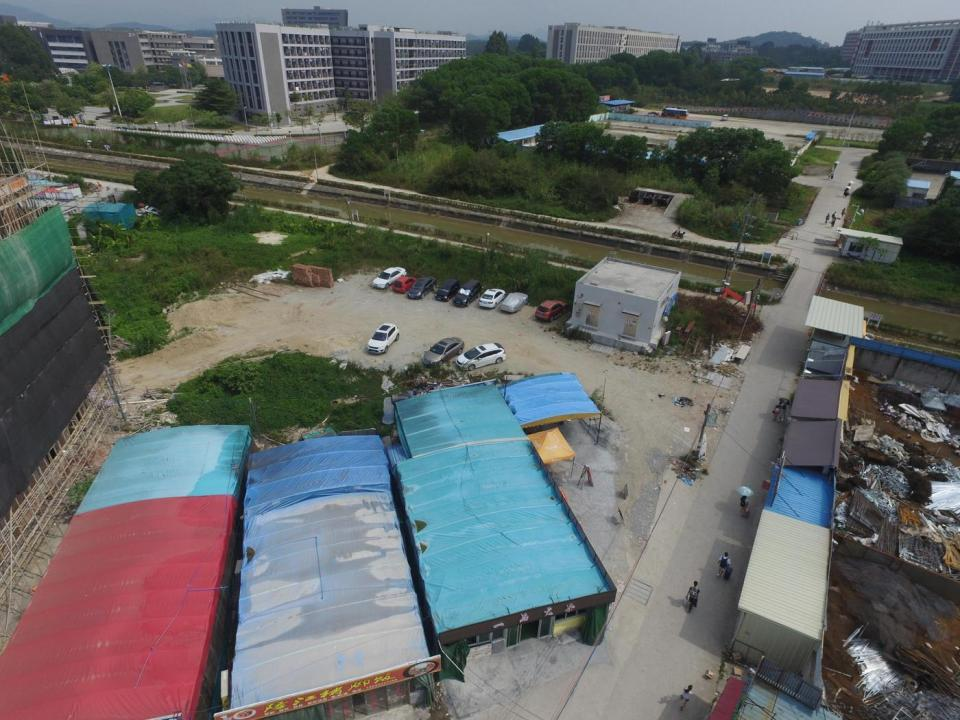bus: (660, 107, 689, 120), (150, 81, 168, 92)
car: (421, 336, 465, 370), (456, 343, 508, 370), (365, 322, 400, 355), (452, 278, 484, 306), (534, 298, 569, 322), (372, 266, 407, 288), (406, 276, 438, 300), (500, 291, 530, 313), (434, 278, 460, 301), (478, 288, 506, 309), (390, 275, 417, 292), (343, 110, 365, 121), (646, 110, 659, 116), (807, 133, 816, 141)
van: (719, 114, 729, 121)
